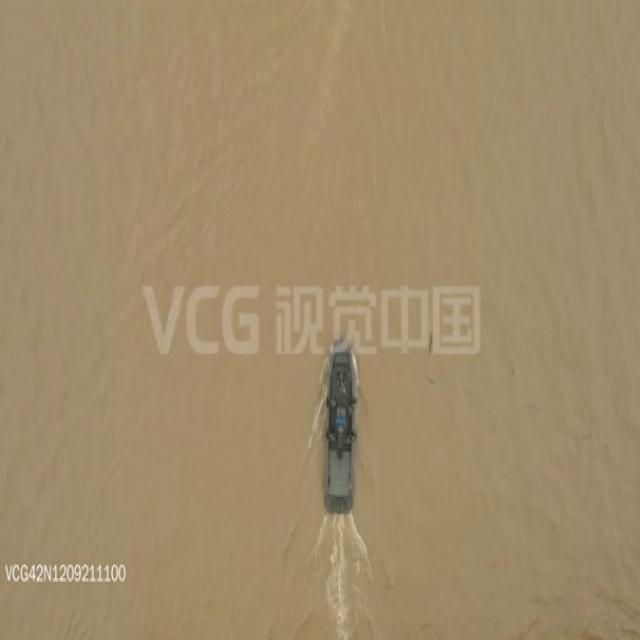houseboat: (323, 334, 358, 516)
